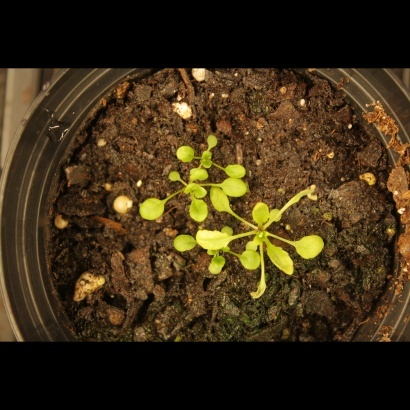leaf: (266, 241, 297, 278), (295, 229, 328, 262), (196, 226, 233, 253), (137, 195, 167, 225), (209, 183, 233, 216), (250, 199, 273, 231), (170, 229, 199, 254), (220, 175, 251, 198), (237, 244, 261, 273), (184, 197, 209, 224), (203, 252, 228, 276), (165, 164, 189, 188), (174, 140, 198, 164), (202, 128, 225, 151), (197, 148, 220, 171), (226, 159, 249, 182), (187, 163, 210, 186), (184, 181, 207, 204), (268, 206, 291, 229)
